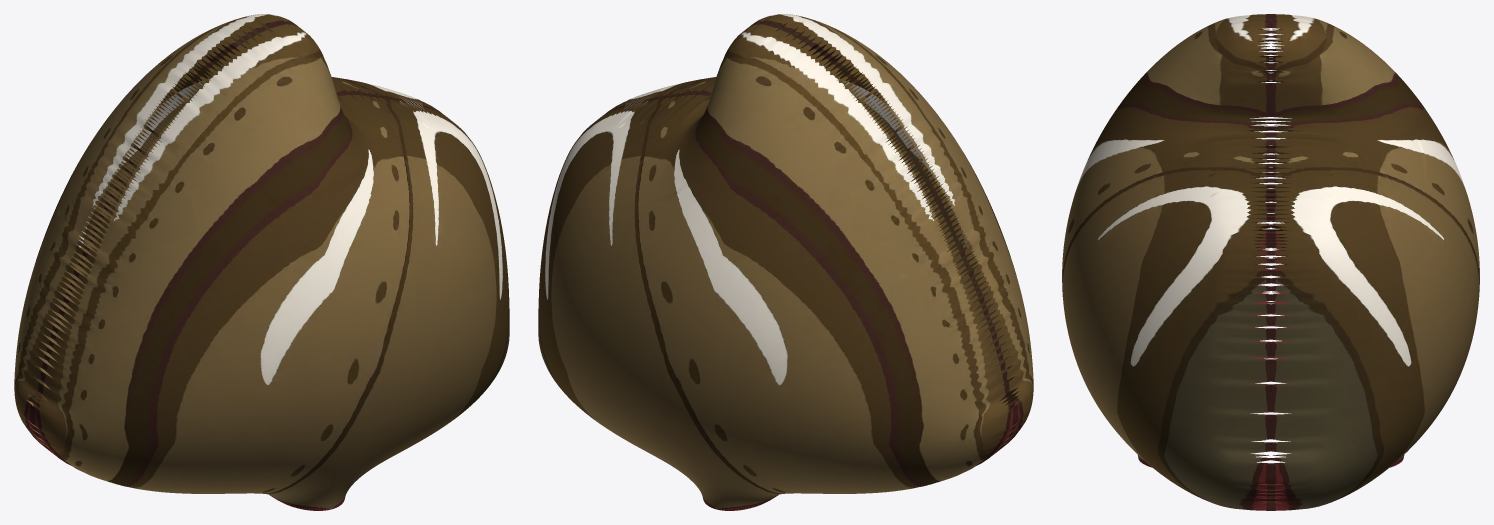
Rendered from twin_lobe_housing.glb.
3 renders of one model, left to right at view 1: azimuth 30°, elevation 25°; view 2: azimuth 150°, elevation 25°; view 3: azimuth 270°, elevation 25°, orthographic.
Visible parts, largest first — view 1: twin_lobe_housing; view 2: twin_lobe_housing; view 3: twin_lobe_housing.
Boxes of the visible parts, bbox=[...] form: twin_lobe_housing: bbox=[14, 14, 509, 510]; twin_lobe_housing: bbox=[538, 14, 1033, 510]; twin_lobe_housing: bbox=[1062, 14, 1479, 510].
Size of the model in its own units: 0.9889 by 0.8989 by 0.7751.
Materials: 1 (1 with a texture image).
